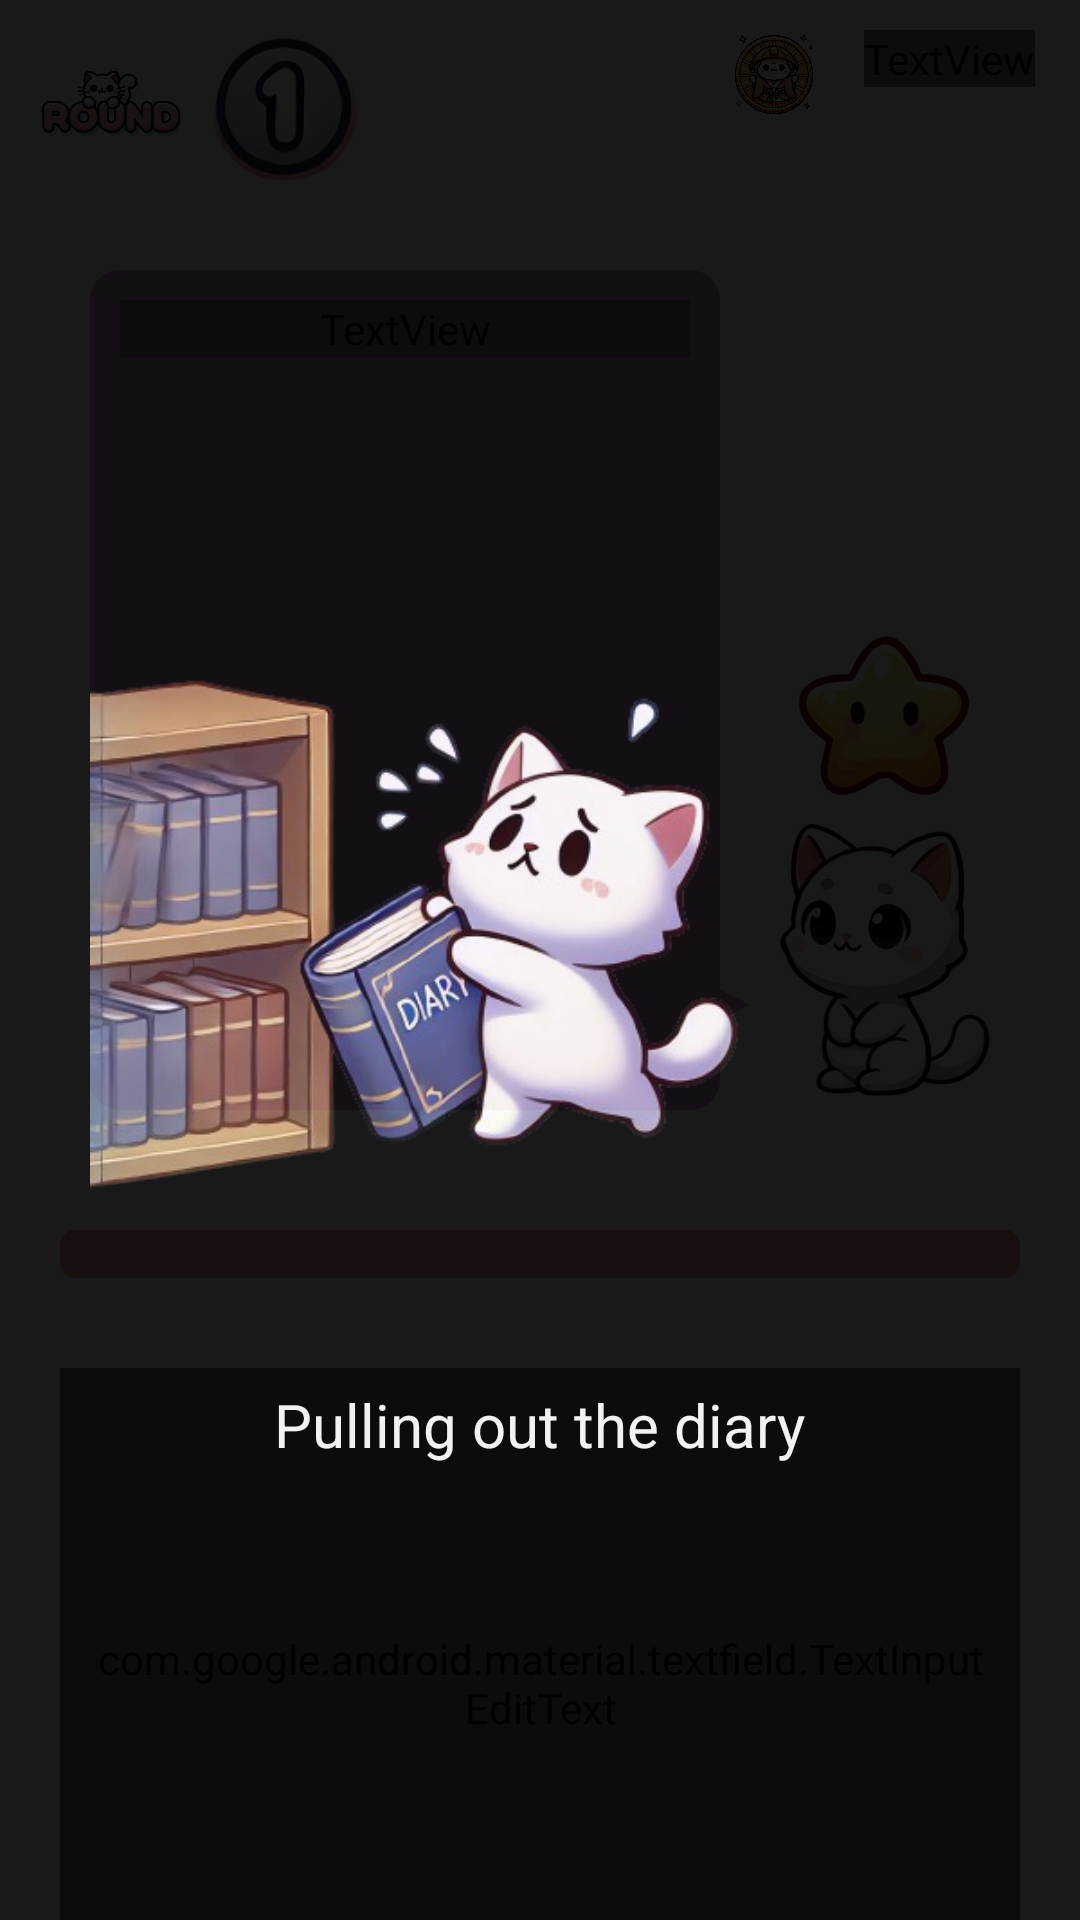

Locate icon controls on the screen. Image size 1080*1920, boxes as {"x1": x1, "y1": y1, "x2": x2, "y2": y2}.
coin: {"x1": 735, "y1": 35, "x2": 813, "y2": 114}
number: {"x1": 264, "y1": 67, "x2": 304, "y2": 144}
sitting cat: {"x1": 781, "y1": 825, "x2": 987, "y2": 1095}
